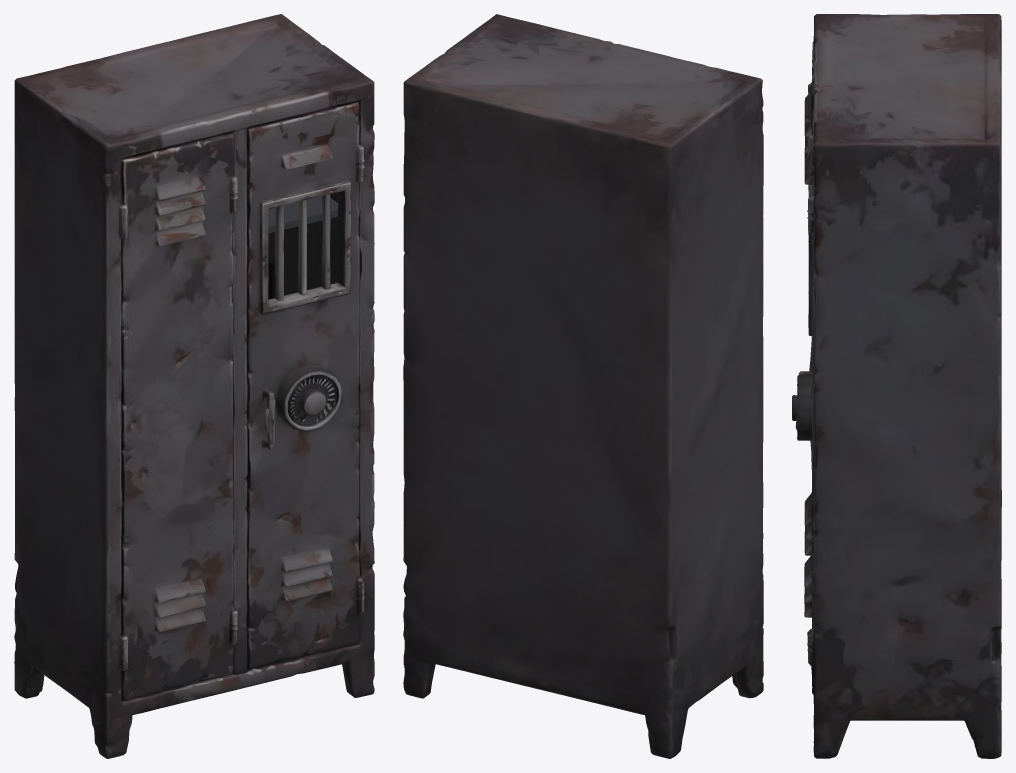
Rendered from prison_armory_locker_b.glb.
3 views of the same model, side by side, from view 1: azimuth 30°, elevation 25°; view 2: azimuth 150°, elevation 25°; view 3: azimuth 270°, elevation 25° (orthographic).
Visible parts, largest first — view 1: body, door_l, door_r; view 2: body; view 3: body, door_r, door_l.
Part boxes in pixels (box(x1,y1,x2,y2)): body: box(14, 14, 374, 758); door_l: box(117, 128, 240, 696); door_r: box(240, 98, 364, 666); body: box(403, 14, 763, 758); body: box(809, 14, 1001, 758); door_r: box(792, 93, 813, 690); door_l: box(804, 41, 813, 555).
Size of the model in its own units: 0.8864 by 1.9 by 0.5874.
Materials: 8 (3 with a texture image).
